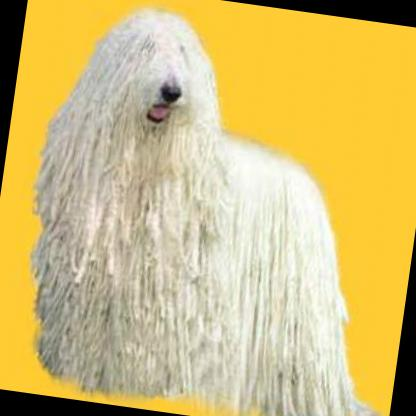komondor: (2, 0, 416, 416)
